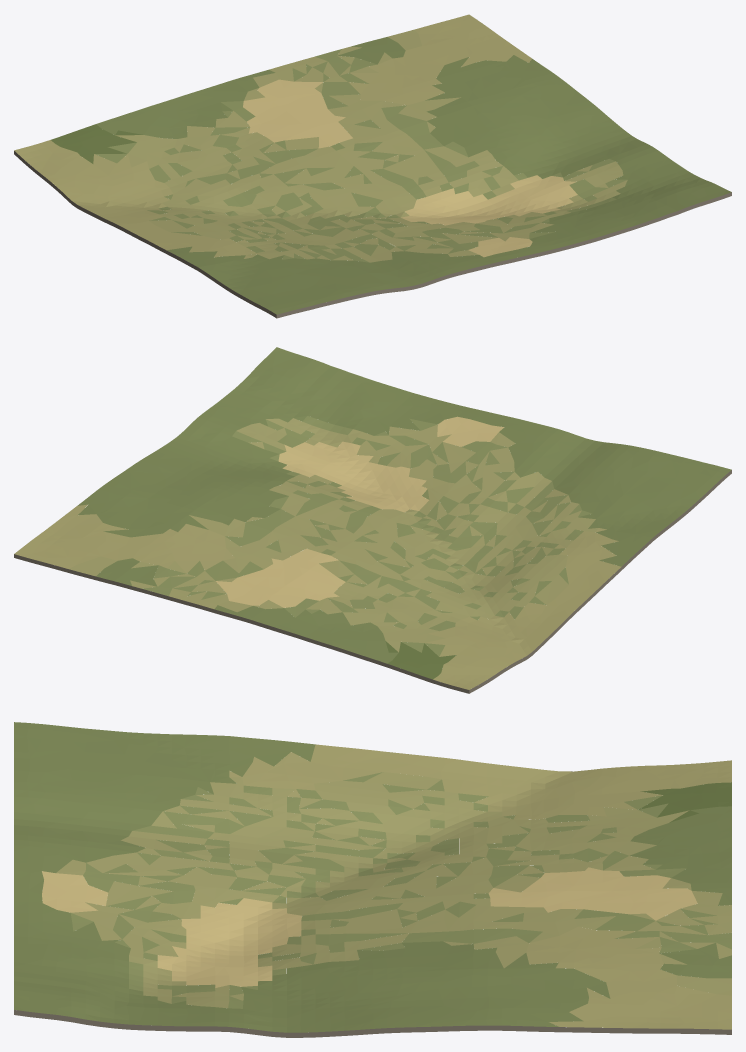
File: parca_+4_-3-uzak.glb
3 views of the same model, one above another, from view 1: azimuth 30°, elevation 25°; view 2: azimuth 150°, elevation 25°; view 3: azimuth 270°, elevation 25° (orthographic). The views are drawn at different scales.
Parts seen in each view (by area): view 1: parca_+4_-3_arazi_uzak; view 2: parca_+4_-3_arazi_uzak; view 3: parca_+4_-3_arazi_uzak.
Part boxes in pixels (box(x1,y1,x2,y2)): parca_+4_-3_arazi_uzak: box(14, 14, 731, 318); parca_+4_-3_arazi_uzak: box(14, 347, 731, 693); parca_+4_-3_arazi_uzak: box(14, 722, 731, 1037).
Size of the model in its own units: 1000 by 108 by 1000.
